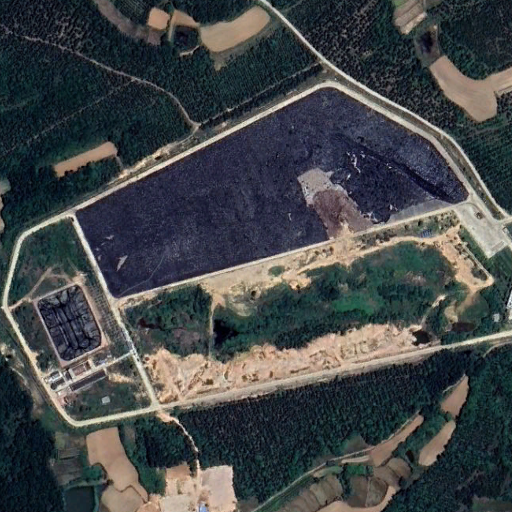lf: (71, 84, 471, 300)
